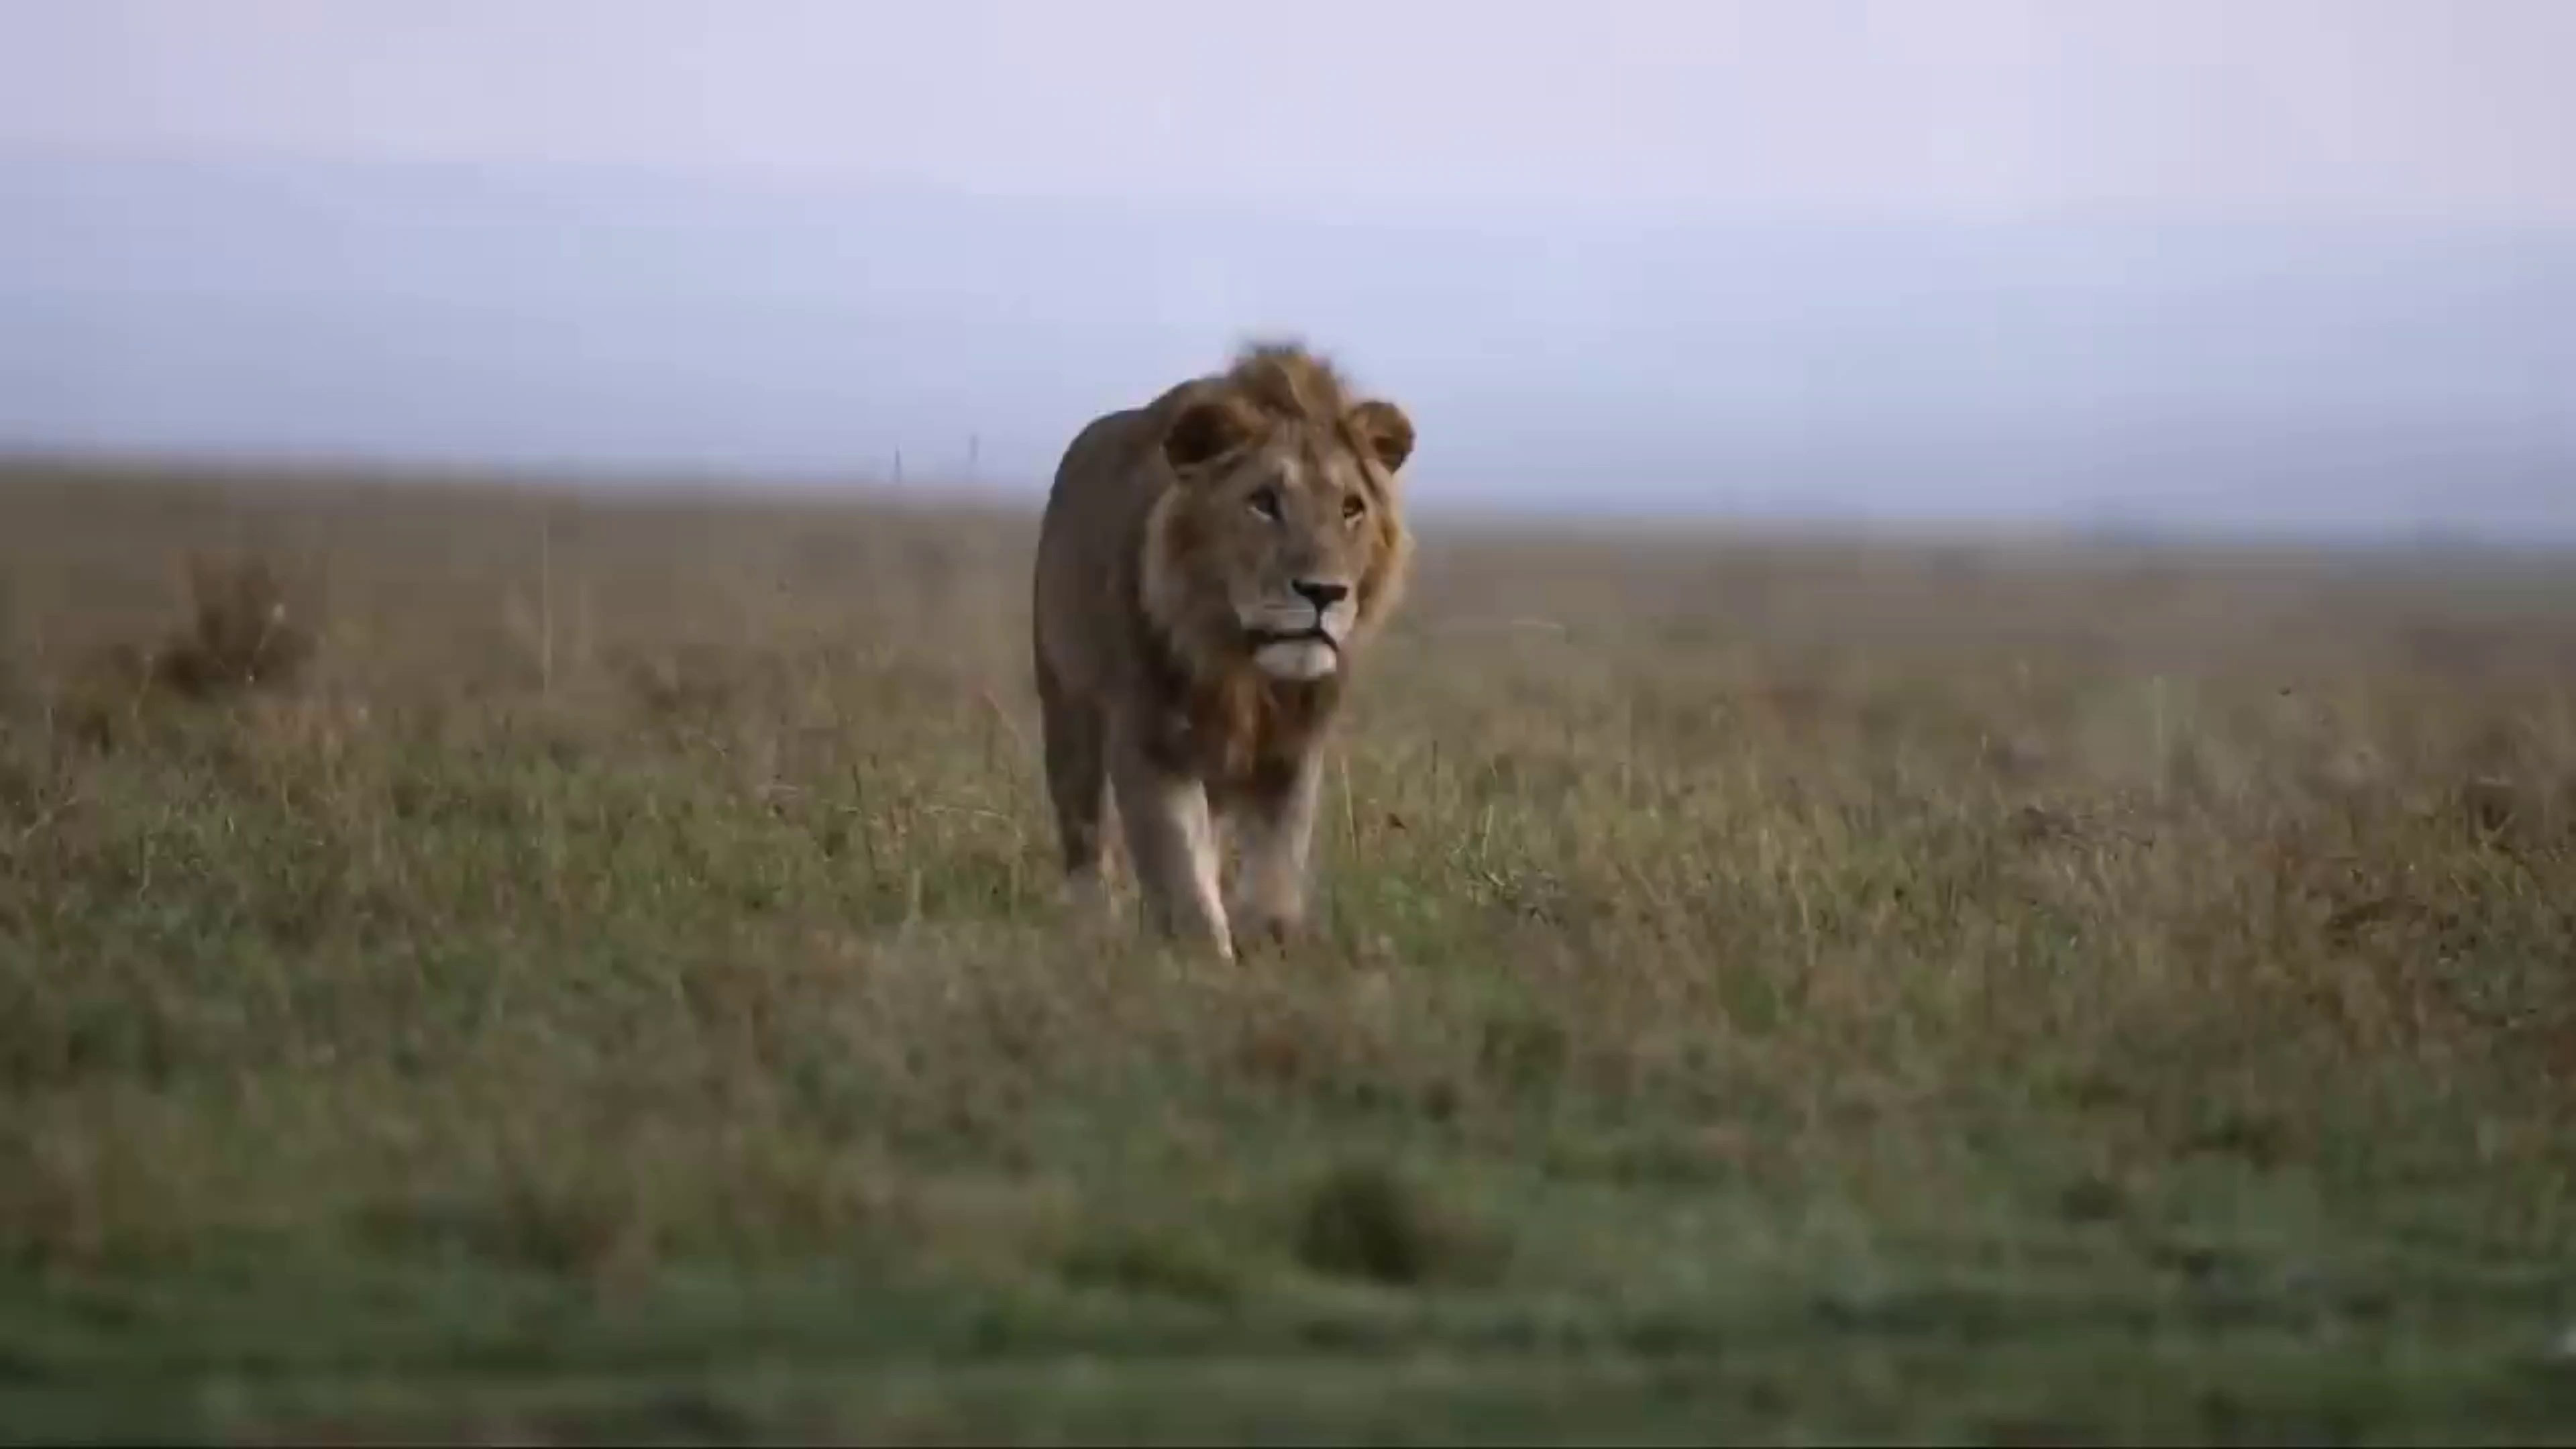Lion: (1035, 331, 1414, 964)
